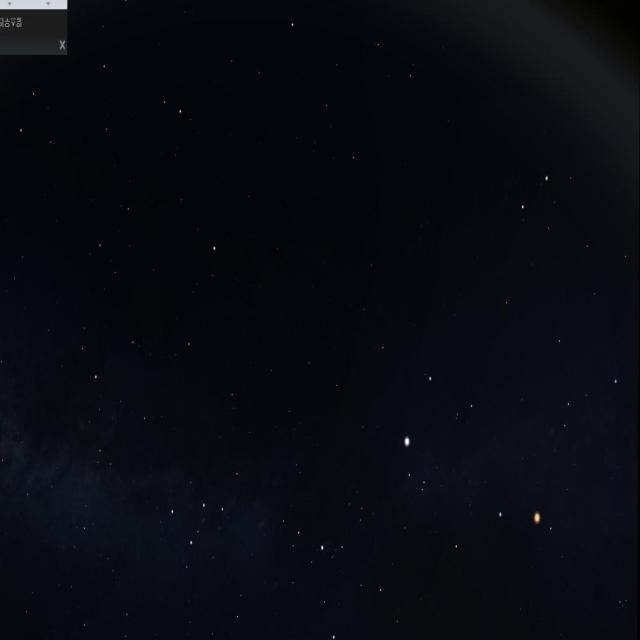cassiopeia: (171, 447, 243, 573)
